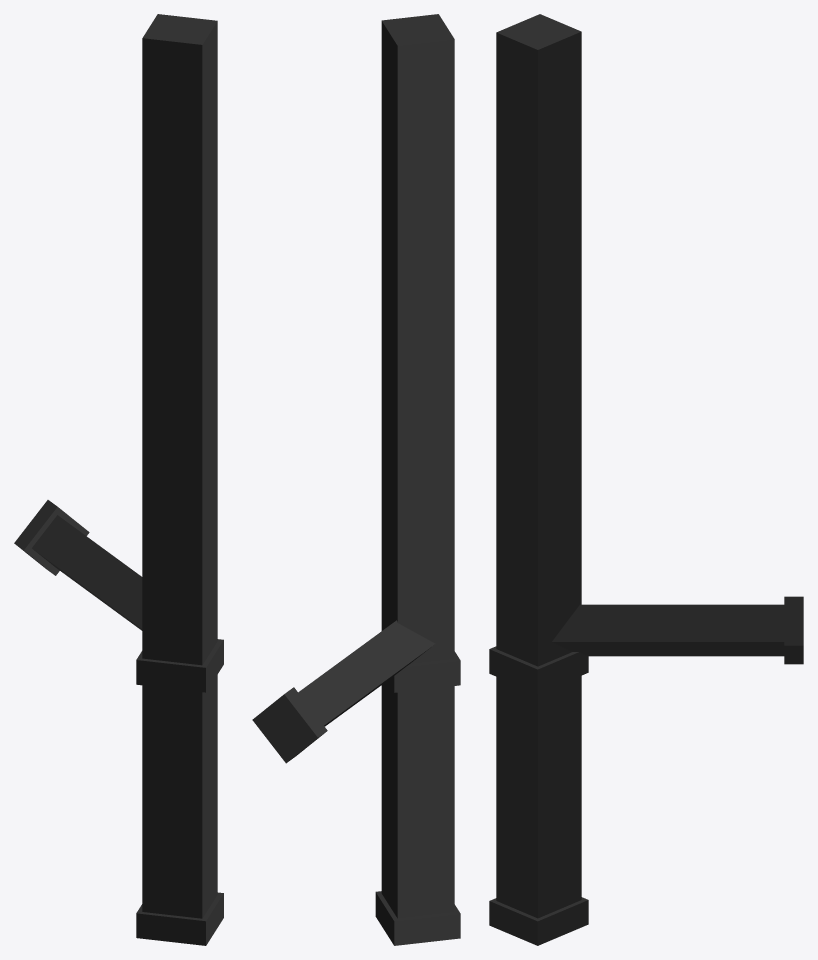
Rendered from Item_Tonfa02.FBX.
3 views of the same model, side by side, from view 1: azimuth 30°, elevation 25°; view 2: azimuth 150°, elevation 25°; view 3: azimuth 270°, elevation 25° (orthographic).
Parts seen in each view (by area): view 1: Item_Tonfa02; view 2: Item_Tonfa02; view 3: Item_Tonfa02.
Boxes of the visible parts, bbox=[...] form: Item_Tonfa02: bbox=[14, 14, 223, 945]; Item_Tonfa02: bbox=[252, 14, 460, 945]; Item_Tonfa02: bbox=[489, 14, 803, 945].
Size of the model in its own units: 5.88 by 58.39 by 18.62.
